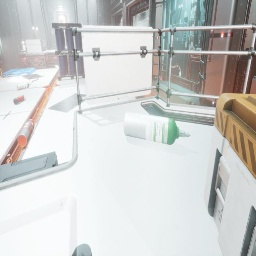0: (124, 111, 191, 145), (17, 82, 31, 90), (54, 65, 59, 69)
EmergencyPhone ,: (4, 44, 7, 50), (51, 28, 54, 34), (52, 31, 53, 31), (6, 46, 6, 47)
FireExtinguisher ]: (13, 94, 26, 105), (27, 67, 34, 68), (68, 67, 69, 69)
FirstAidBox ,: (84, 67, 85, 72), (26, 48, 27, 52)
NitrogenTank ,: (17, 119, 35, 147), (26, 50, 27, 51), (57, 49, 57, 50)
SafetySwitchPanel ,: (80, 23, 83, 34)
